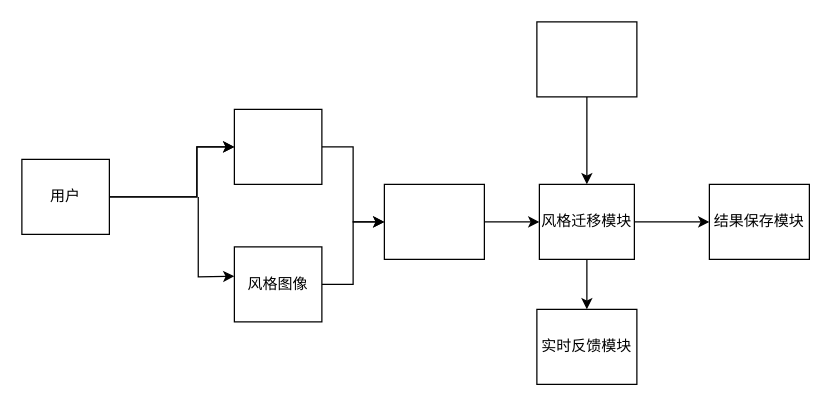
Some shapes in this 831 by 406 pixel diagram are drawn without their labels. Here are the shapes that lost their labels. From the top down, the centre of each, then its label:
At pixel 586 59: "性能优化模块".
At pixel 277 146: "内容图像".
At pixel 433 221: "图像处理模块".
